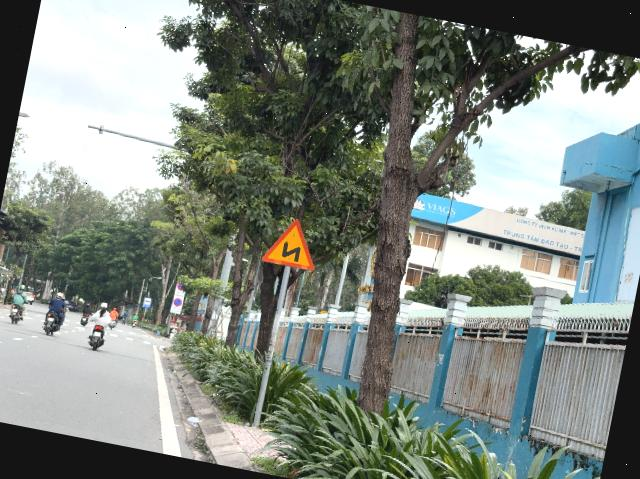nhieu-cho-ngoat-nguy-hiem-lien-tiep: (261, 213, 323, 271)
